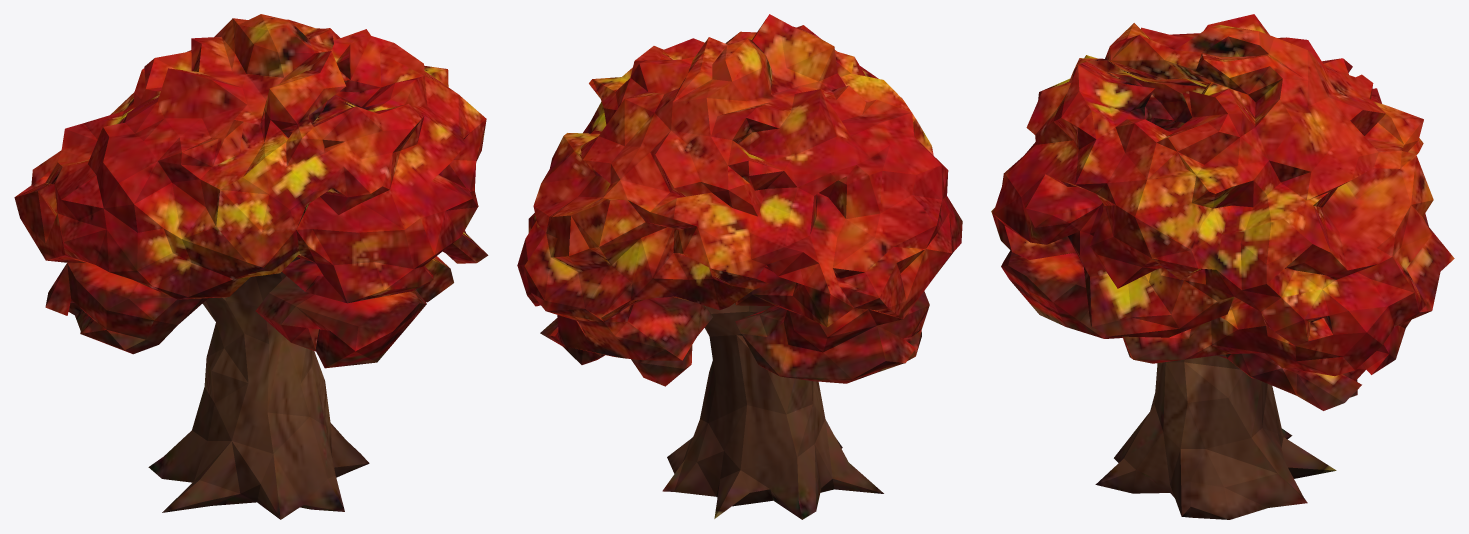
File: kizil_agac.glb
3 views of the same model, side by side, from view 1: azimuth 30°, elevation 25°; view 2: azimuth 150°, elevation 25°; view 3: azimuth 270°, elevation 25° (orthographic). The views are drawn at different scales.
Visible parts, largest first — view 1: geometry_0; view 2: geometry_0; view 3: geometry_0.
Part boxes in pixels (x1=…): geometry_0: x1=14, y1=14, x2=488, y2=519; geometry_0: x1=517, y1=14, x2=962, y2=519; geometry_0: x1=991, y1=14, x2=1454, y2=519.
Bounding box in the file's own units: 0.9411 × 1.03 × 0.9255.
Materials: 1 (1 with a texture image).
